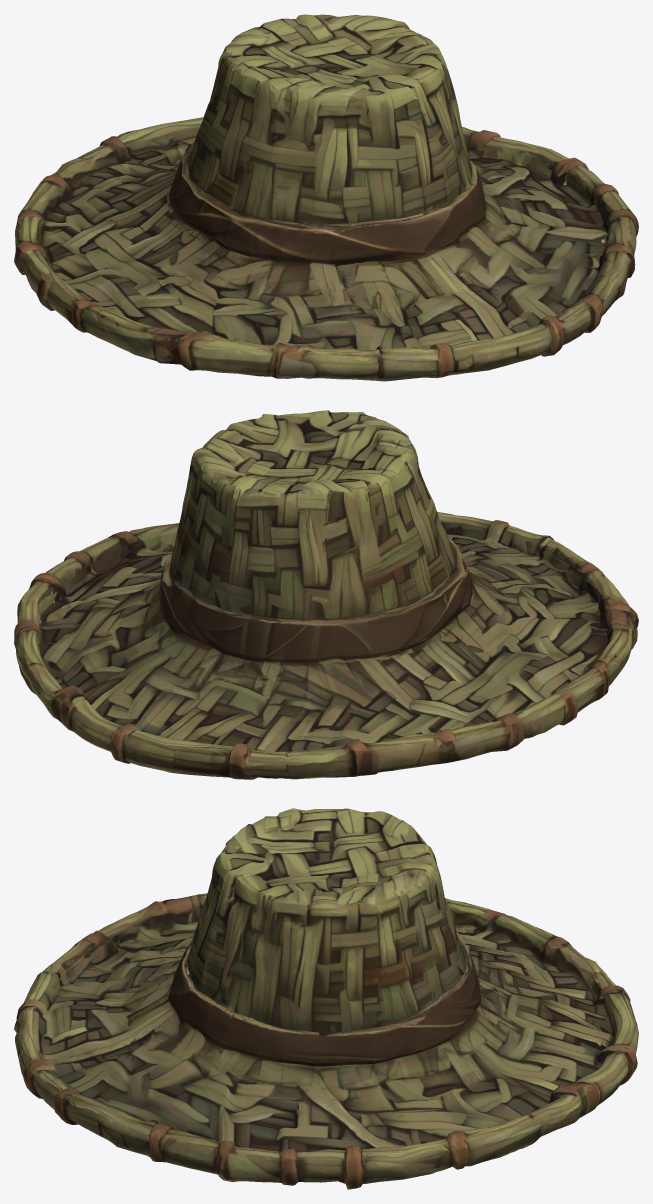
File: item_straw_hat.glb
The picture shows the model from 3 angles, top to bottom: view 1: azimuth 30°, elevation 25°; view 2: azimuth 150°, elevation 25°; view 3: azimuth 270°, elevation 25°; orthographic projection.
Parts seen in each view (by area): view 1: item_straw_hat; view 2: item_straw_hat; view 3: item_straw_hat.
Part boxes in pixels (box(x1,y1,x2,y2)): item_straw_hat: box(14, 14, 638, 381); item_straw_hat: box(14, 410, 638, 779); item_straw_hat: box(14, 808, 638, 1189).
Size of the model in its own units: 0.4 by 0.1548 by 0.3992.
Materials: 1 (1 with a texture image).
